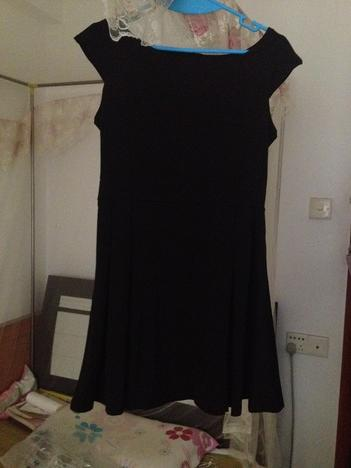S_dress: (66, 15, 308, 427)
